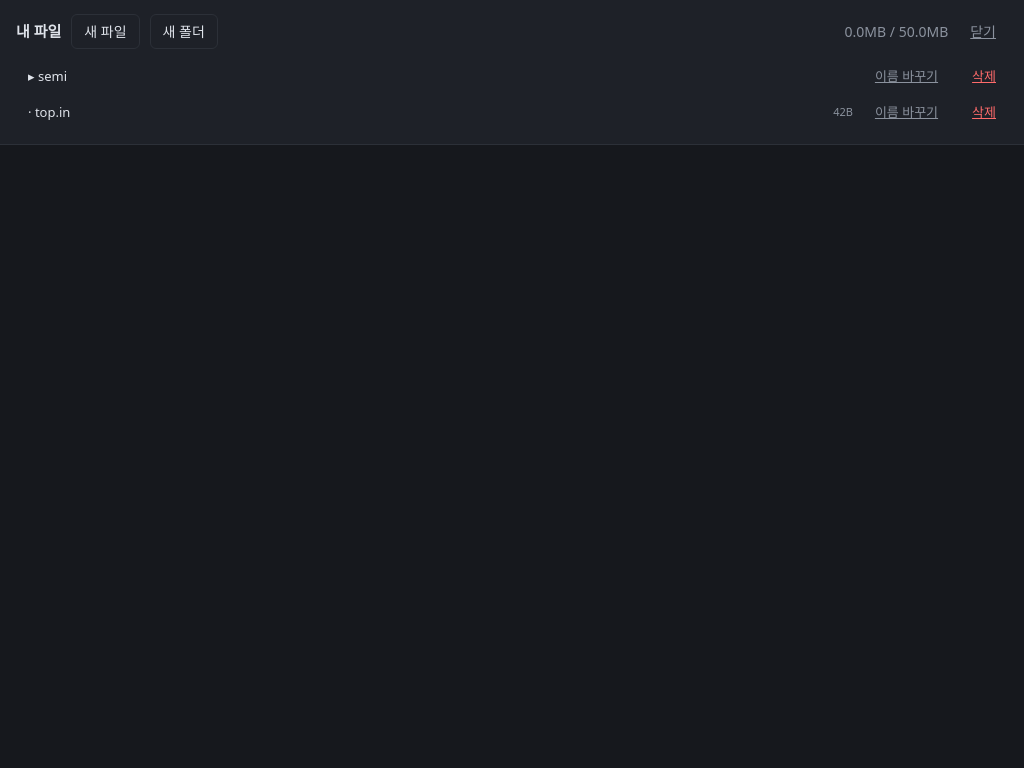
오류 › 서버 메시지를 그대로 보여준다
Expected: the button "· top.in" is shown, [16,96,823,128]
What coordinates should you click on to do the following:
click the button "새 폴더"
I would click on:
 (184, 32)
Its box is [150,14,218,49].
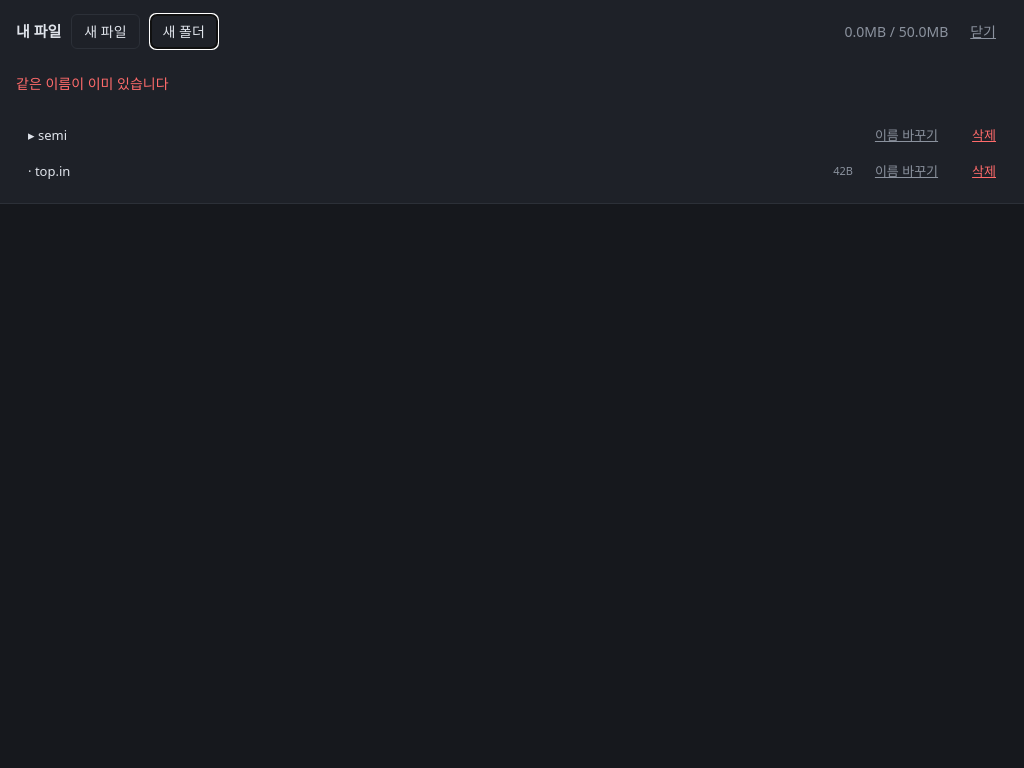
Expected: the text "같은 이름이 이미 있습니다" is shown, [16,74,169,93]
